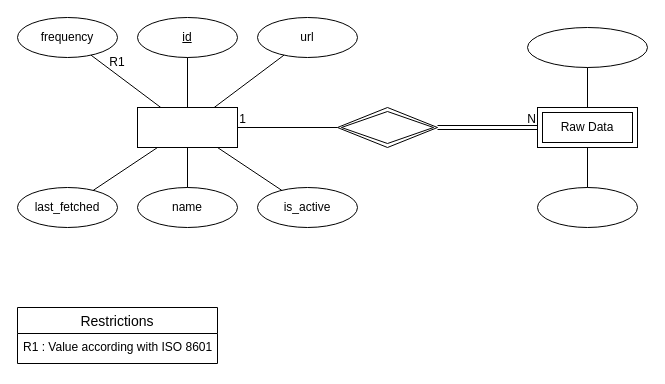
This 665x384 diagram has some shape labels left out. Each missing label, with the centre of its shape:
"data" goes at pixel 587 207.
"has" goes at pixel 387 127.
"Provider" goes at pixel 187 127.
"timestamp" goes at pixel 587 47.
